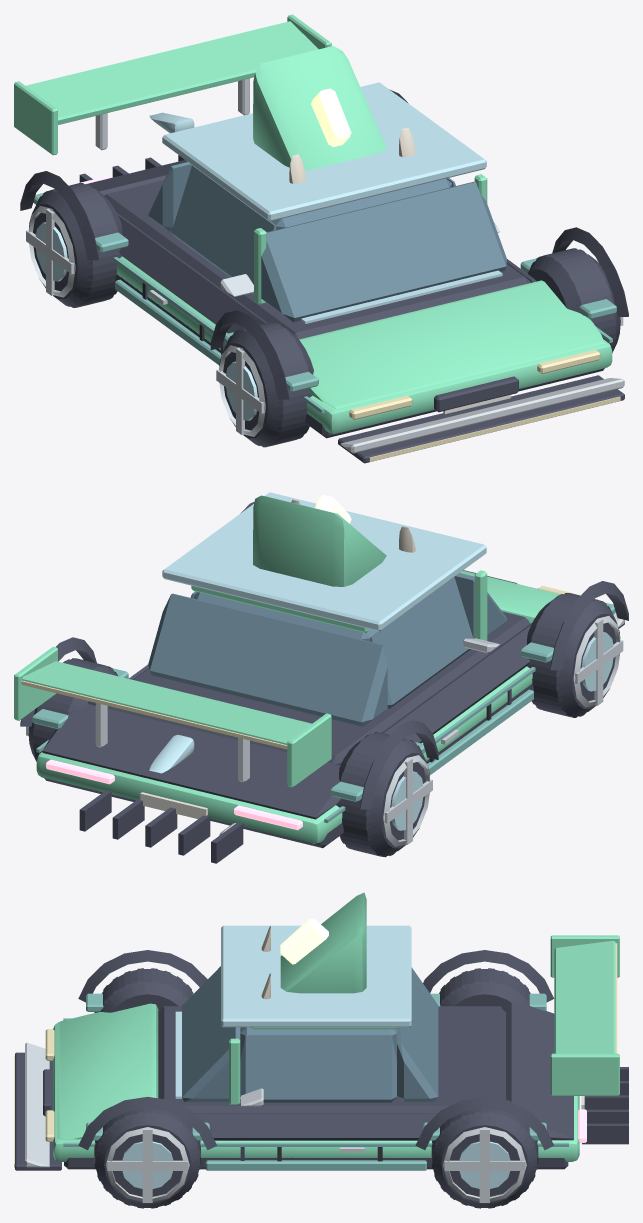
File: wizard_wagon.fbx
The picture shows the model from 3 angles, top to bottom: view 1: azimuth 30°, elevation 25°; view 2: azimuth 150°, elevation 25°; view 3: azimuth 270°, elevation 25°; orthographic projection. The views are drawn at different scales.
Parts seen in each view (by area): view 1: Body, Glass, Trim, Accent2, Wheel_FR, Wheel_RR, Metal, Accent3, Accent, Wheel_FL, Light, Metal2 (+2 smaller); view 2: Trim, Body, Glass, Accent2, Metal, Wheel_FR, Wheel_RR, Accent, Wheel_RL, Metal2, Light2, Light (+1 smaller); view 3: Trim, Body, Glass, Accent2, Metal, Wheel_RL, Wheel_FL, Accent, Wheel_FR, Accent3, Wheel_RR, Metal2 (+2 smaller).
Boxes of the visible parts, x1,y1,x2,y2 form: Body: (14, 14, 612, 433); Glass: (148, 162, 506, 322); Trim: (20, 89, 628, 463); Accent2: (149, 82, 502, 323); Wheel_FR: (219, 322, 313, 447); Wheel_RR: (29, 183, 122, 307); Metal: (26, 78, 623, 436); Accent3: (220, 222, 624, 453); Accent: (33, 193, 616, 413); Wheel_FL: (527, 248, 620, 352); Light: (349, 350, 620, 461); Metal2: (35, 222, 257, 420); Trim: (20, 501, 628, 863); Body: (14, 495, 560, 843); Glass: (148, 573, 506, 726); Accent2: (149, 492, 486, 773); Metal: (26, 616, 623, 846); Wheel_FR: (527, 593, 620, 717); Wheel_RR: (336, 732, 429, 857); Accent: (32, 602, 615, 822); Wheel_RL: (28, 658, 117, 761); Metal2: (391, 632, 613, 830); Light2: (46, 759, 302, 830); Light: (21, 585, 598, 749); Trim: (15, 950, 628, 1170); Body: (53, 892, 619, 1161); Glass: (182, 966, 438, 1102); Accent2: (175, 925, 411, 1098); Metal: (105, 1127, 526, 1203); Wheel_RL: (431, 1108, 538, 1208); Wheel_FL: (94, 1108, 200, 1208); Accent: (63, 993, 568, 1170); Wheel_FR: (94, 968, 193, 1012); Accent3: (25, 1042, 263, 1167); Wheel_RR: (439, 968, 530, 1011); Metal2: (122, 1141, 510, 1188).
Bounding box in the file's own units: 3.3 × 2.25 × 5.49.
